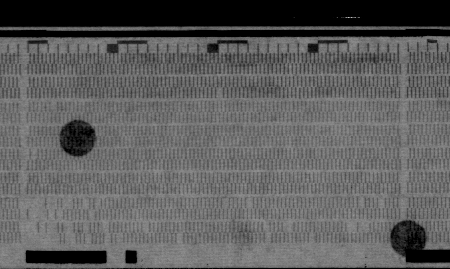Broken hole: (23, 196, 101, 243), (99, 221, 125, 242), (344, 221, 373, 234), (261, 220, 274, 241), (281, 220, 297, 232), (306, 233, 321, 245), (355, 195, 368, 208), (220, 197, 232, 211), (140, 220, 152, 233), (173, 233, 186, 245), (244, 196, 256, 209), (375, 197, 388, 209), (214, 87, 226, 99), (48, 102, 61, 113)
